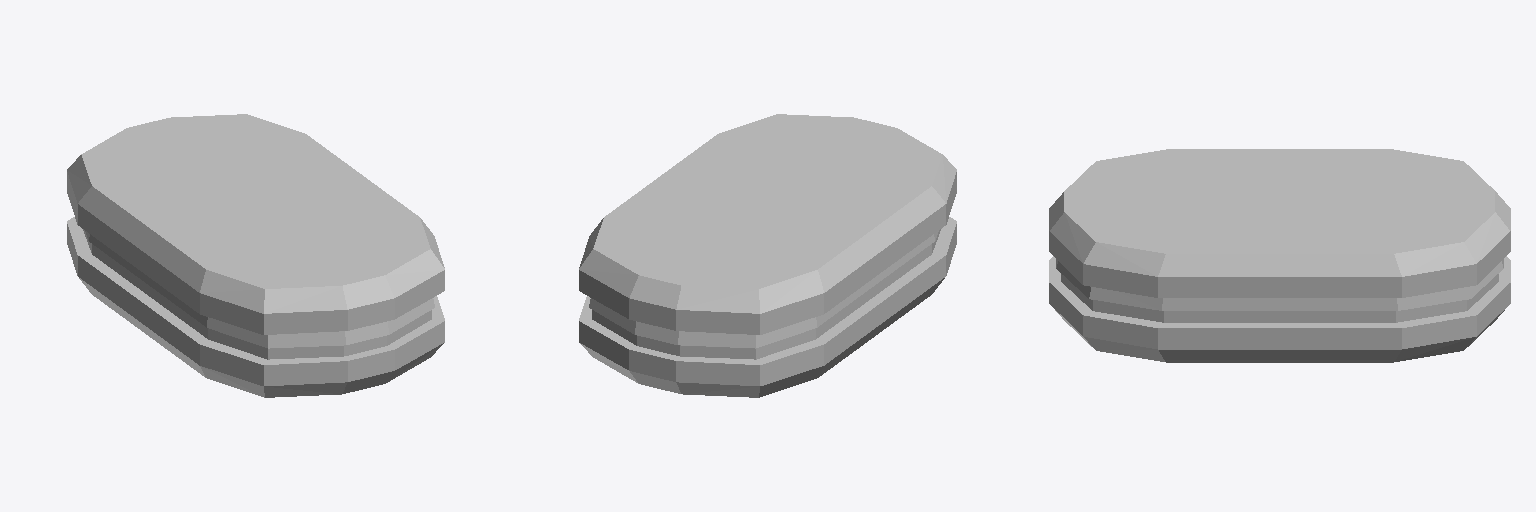
File: S'mores Stage 6.obj
3 views of the same model, side by side, from view 1: azimuth 30°, elevation 25°; view 2: azimuth 150°, elevation 25°; view 3: azimuth 270°, elevation 25° (orthographic).
Parts seen in each view (by area): view 1: S_mores_Bottom_Top_006, S_mores_Bottom_Top_005, S_mores_Cream_Pressed, S_mores_Chocolate_Pressed; view 2: S_mores_Bottom_Top_006, S_mores_Bottom_Top_005, S_mores_Cream_Pressed, S_mores_Chocolate_Pressed; view 3: S_mores_Bottom_Top_006, S_mores_Bottom_Top_005, S_mores_Cream_Pressed, S_mores_Chocolate_Pressed.
Boxes of the visible parts, x1=… form: S_mores_Bottom_Top_006: x1=67, y1=114, x2=444, y2=334; S_mores_Bottom_Top_005: x1=67, y1=217, x2=444, y2=397; S_mores_Cream_Pressed: x1=85, y1=231, x2=434, y2=348; S_mores_Chocolate_Pressed: x1=83, y1=229, x2=431, y2=359; S_mores_Bottom_Top_006: x1=579, y1=114, x2=956, y2=334; S_mores_Bottom_Top_005: x1=579, y1=217, x2=956, y2=397; S_mores_Cream_Pressed: x1=589, y1=231, x2=938, y2=348; S_mores_Chocolate_Pressed: x1=592, y1=229, x2=940, y2=359; S_mores_Bottom_Top_006: x1=1049, y1=149, x2=1510, y2=297; S_mores_Bottom_Top_005: x1=1049, y1=256, x2=1510, y2=362; S_mores_Cream_Pressed: x1=1056, y1=259, x2=1503, y2=310; S_mores_Chocolate_Pressed: x1=1061, y1=274, x2=1498, y2=322.
Size of the model in its own units: 0.5 by 0.2212 by 0.85.